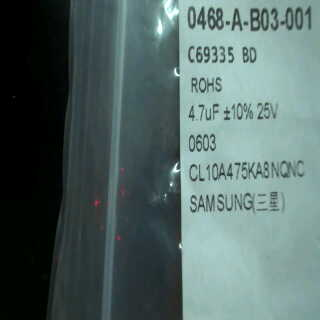4.7uF: (187, 98, 221, 128)
